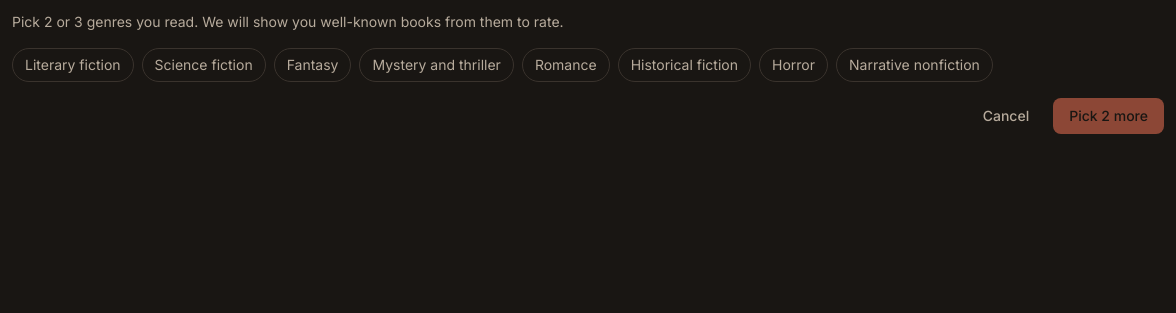
Scenario: QuickRate › stops topping up when the genres run out of picks
This screenshot has width=1176, height=313.
Expected: the button "Pick 2 more" is disabled, [1053,98,1164,134]
Click the button "Science fiction".
click(204, 65)  # box [142,48,266,82]
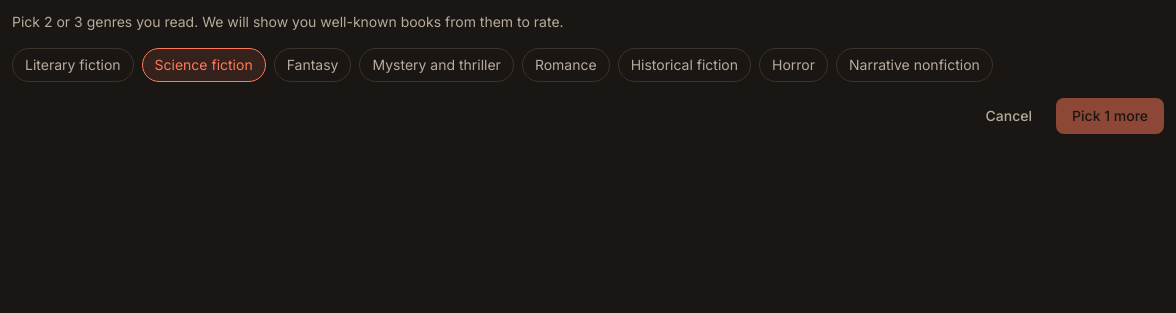
Click the button "Fantasy".
click(313, 65)  # box [274,48,352,82]
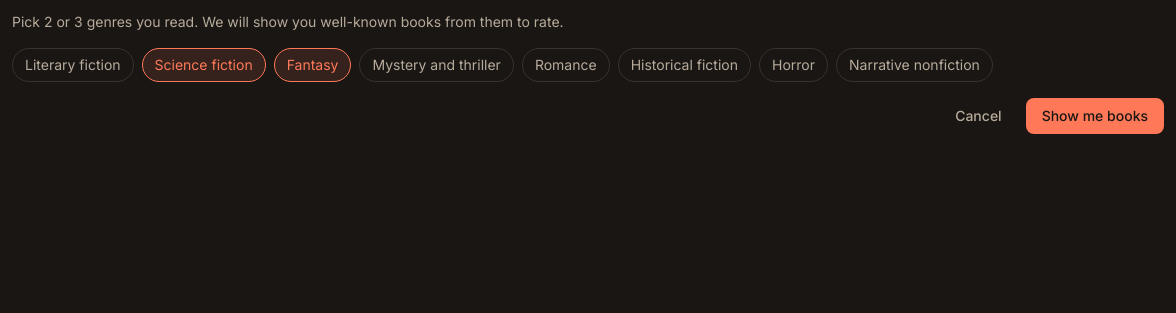
Click the button "Show me books".
click(1095, 116)  # box [1026,98,1164,134]
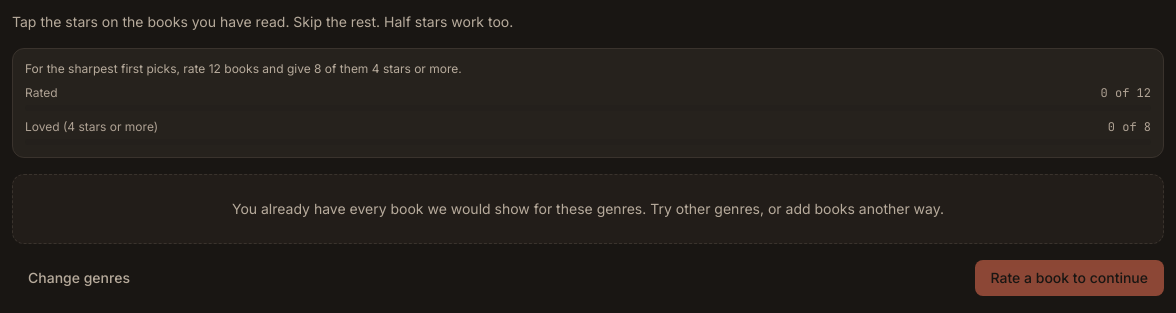
Now the text "You already have every book we would show" is shown, box [232,200,944,217]
